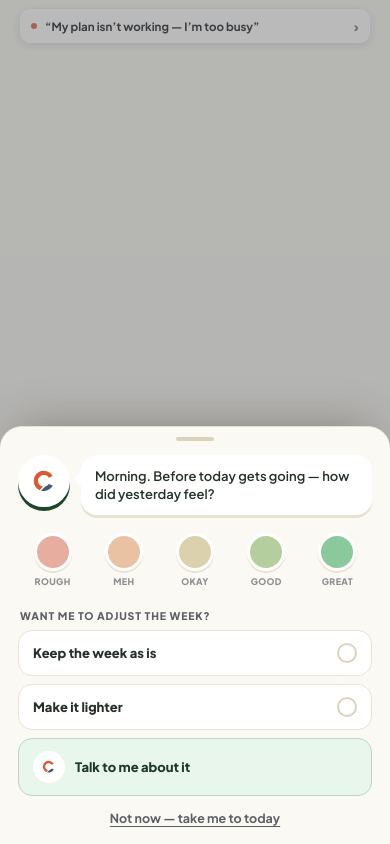
Scenario: PlanView — check-in picks route to the coach › 'Keep the week as is' ends there — nothing routes anywhere
Click the radio button "Keep the week as is". click: click(95, 653)
box: [18,630,372,676]
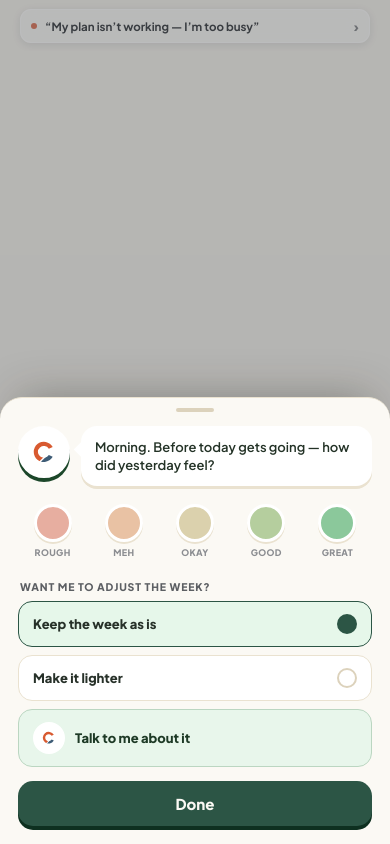
Click the button "Done". click: click(195, 804)
box: [18,781,372,826]
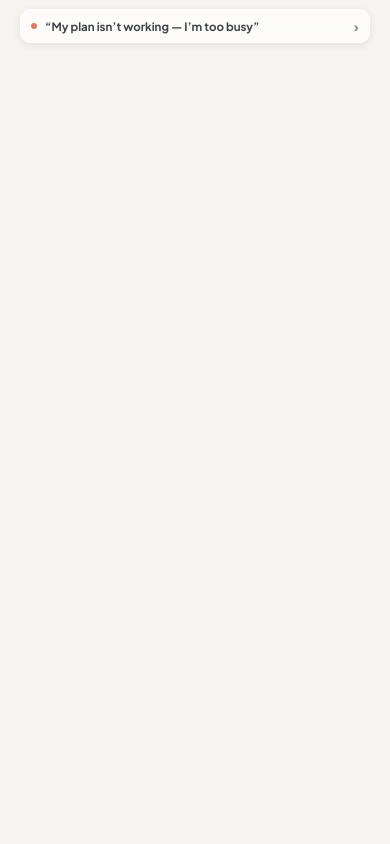
Expected: the radio button "Keep the week as is" is gone
